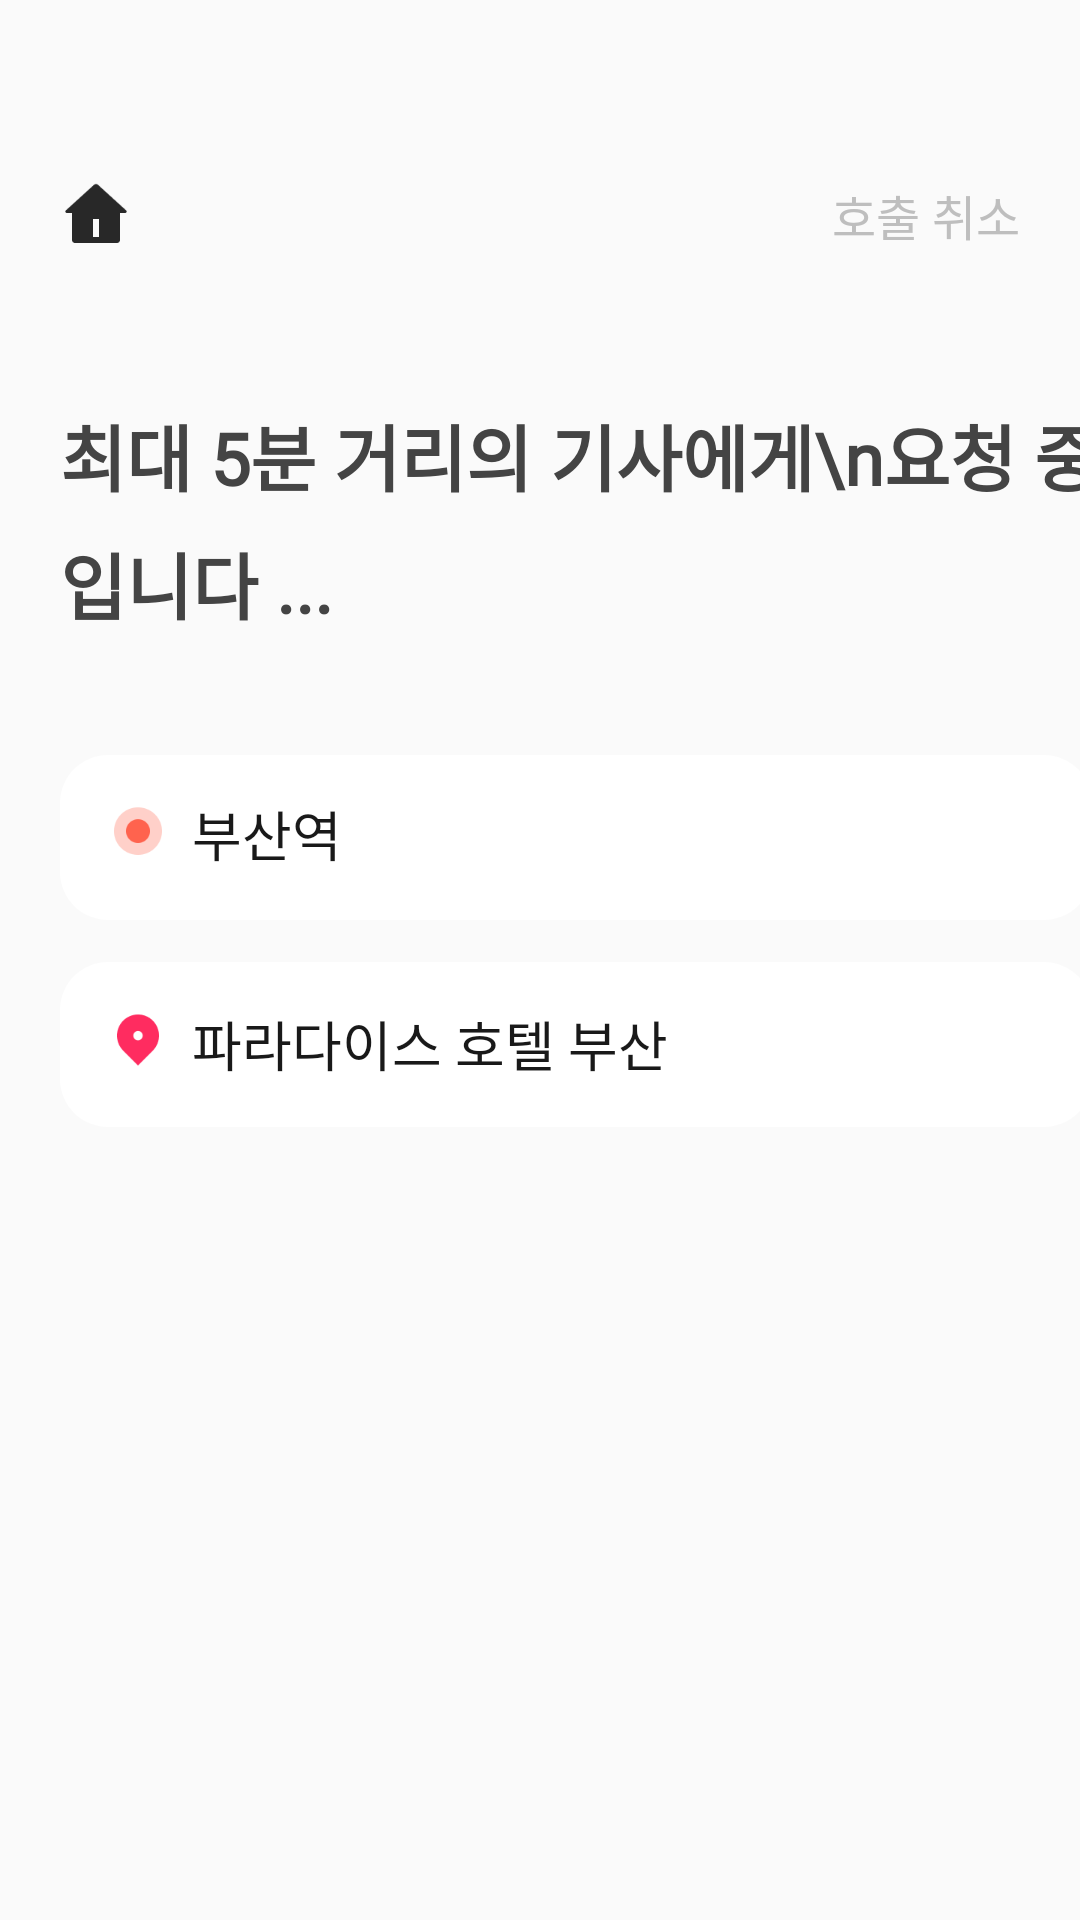

Icons on this 1080*1920 Android screen, each with the point to tap as [x,y]:
home: [96,213]
